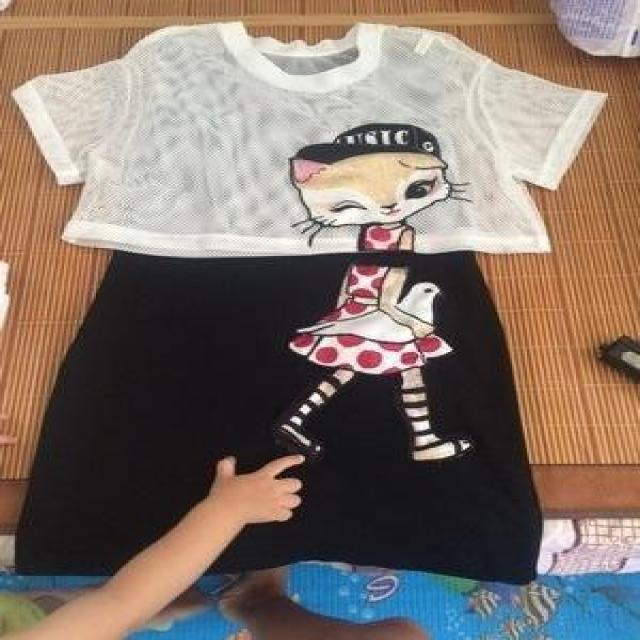short sleeve top: (13, 24, 610, 254)
vest dress: (19, 35, 529, 584)
